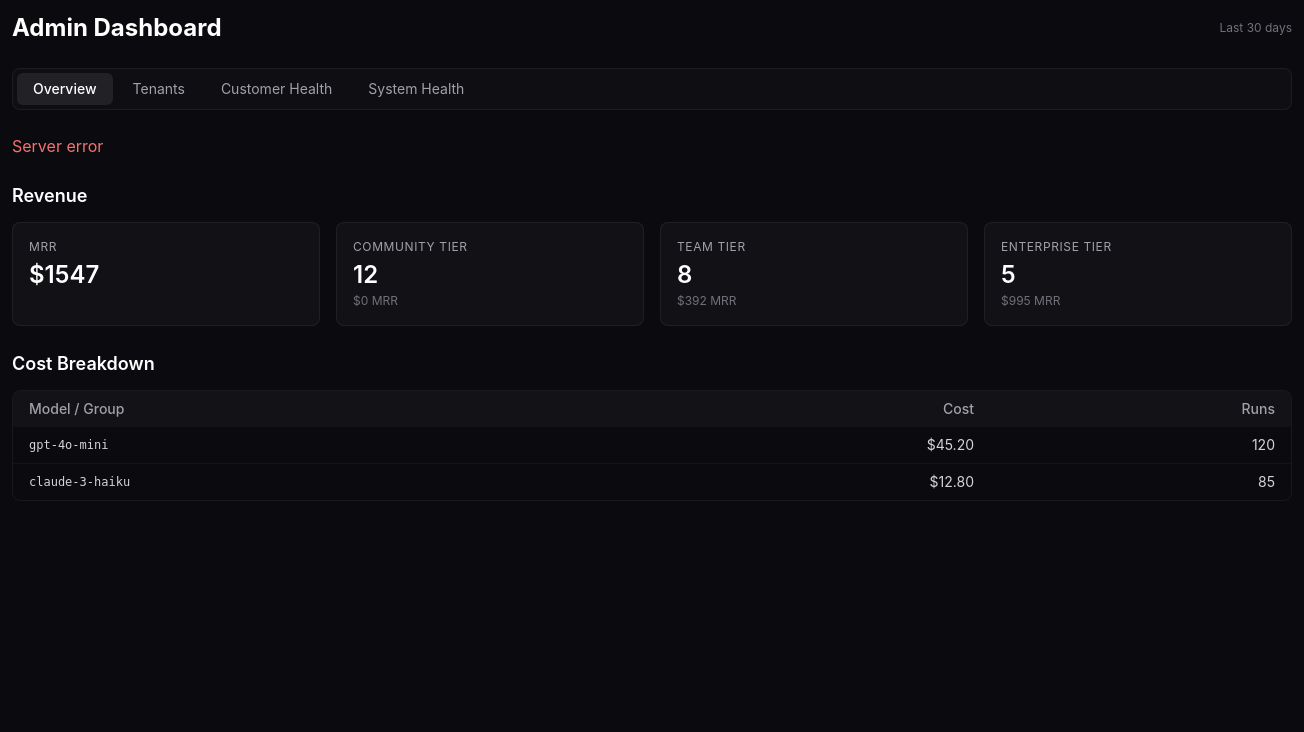
Scenario: AdminDashboard - Customer Health Tab › renders health summary cards when tab is clicked
What coordinates should you click on to do the following:
click the button "Customer Health"
I would click on:
 (277, 89)
Its box is [205,73,348,105].
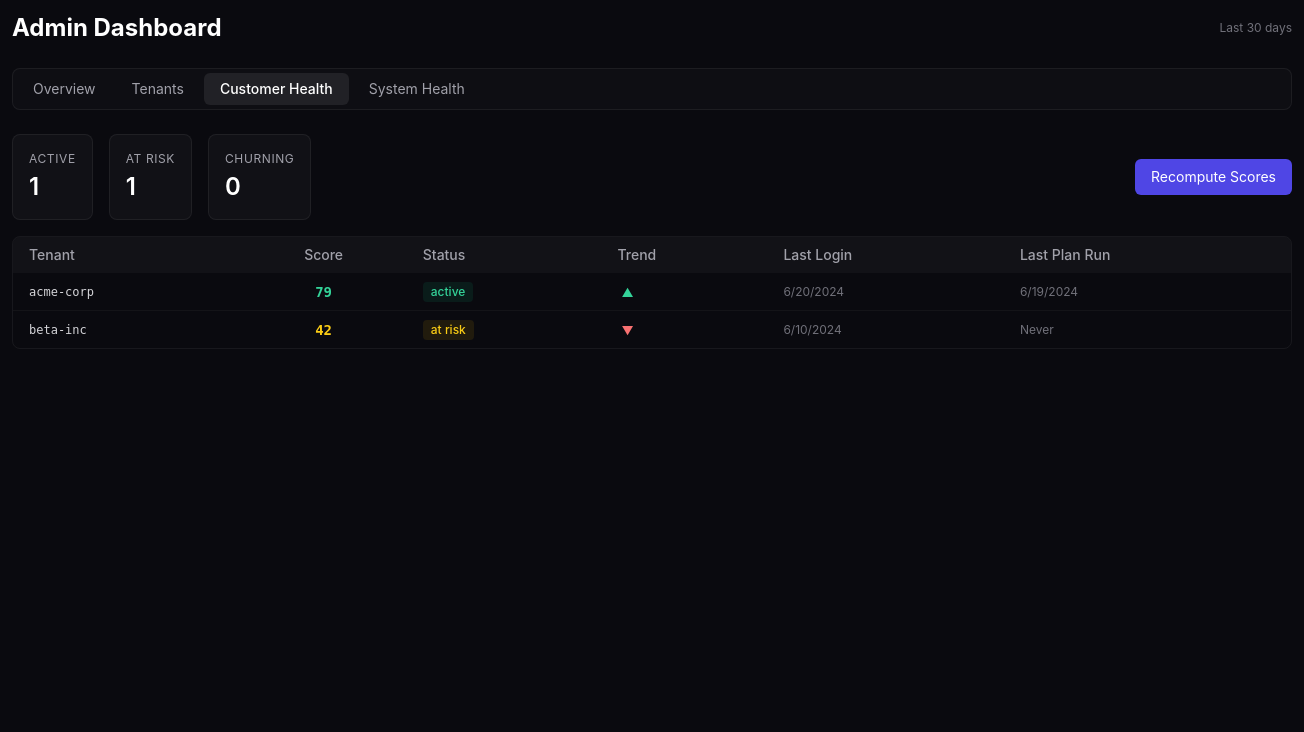
expect the text "Active" is shown: met, box [29,151,76,167]
expect the text "At Risk" is shown: met, box [126,151,175,167]
expect the text "Churning" is shown: met, box [225,151,294,167]
